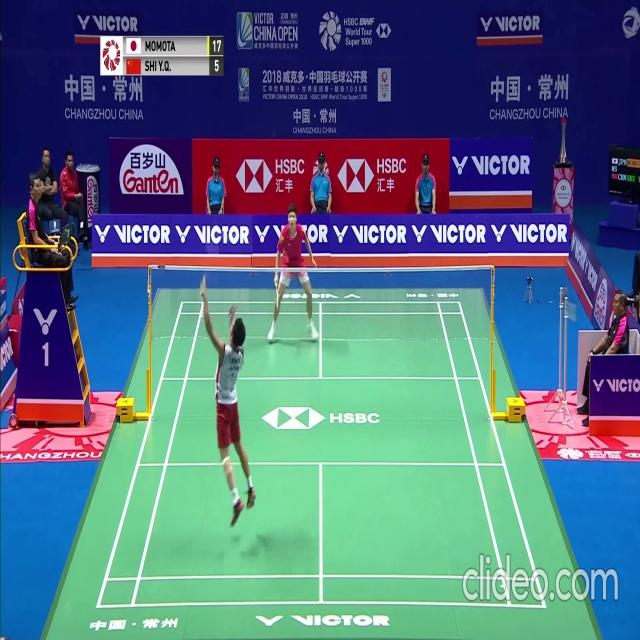Shuttlecock: (224, 232, 229, 240)
